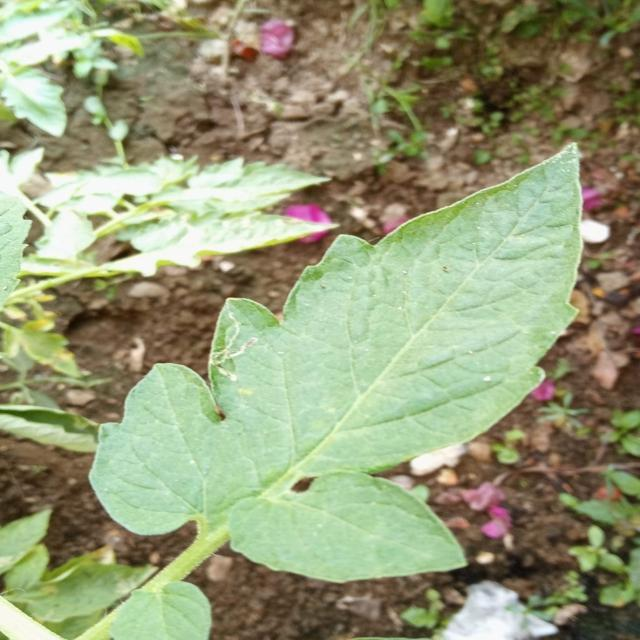Tuta absoluta: (199, 307, 265, 389)
